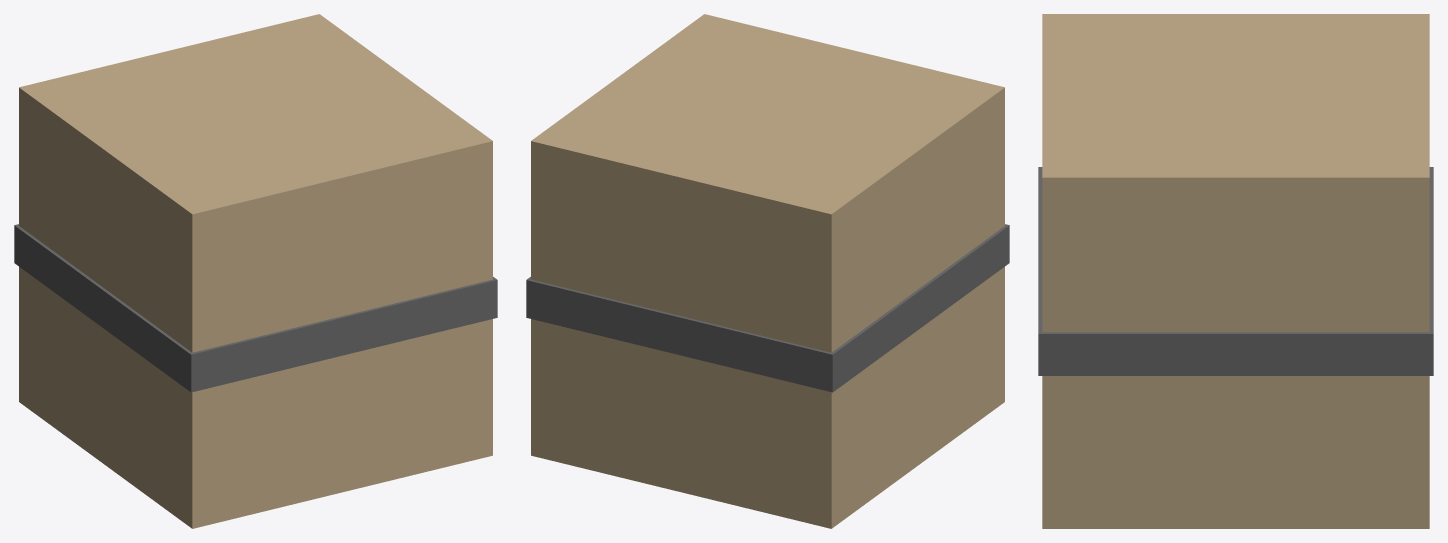
Rendered from crate.glb.
The picture shows the model from 3 angles, left to right: view 1: azimuth 30°, elevation 25°; view 2: azimuth 150°, elevation 25°; view 3: azimuth 270°, elevation 25°; orthographic projection. The views are drawn at different scales.
Parts seen in each view (by area): view 1: crate, band; view 2: crate, band; view 3: crate, band.
Boxes of the visible parts, left/top/right/bottom form: crate: left=19, top=14, right=492, bottom=528; band: left=14, top=224, right=497, bottom=392; crate: left=531, top=14, right=1004, bottom=528; band: left=526, top=224, right=1009, bottom=392; crate: left=1042, top=14, right=1429, bottom=528; band: left=1038, top=167, right=1433, bottom=375.
Bounding box in the file's own units: 1.02 × 1 × 1.02.
